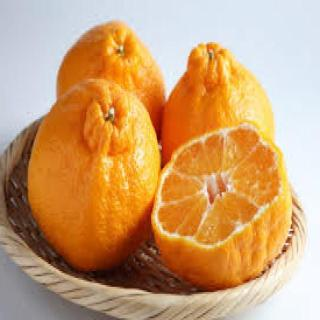orange: (5, 73, 158, 284), (148, 107, 316, 277)
